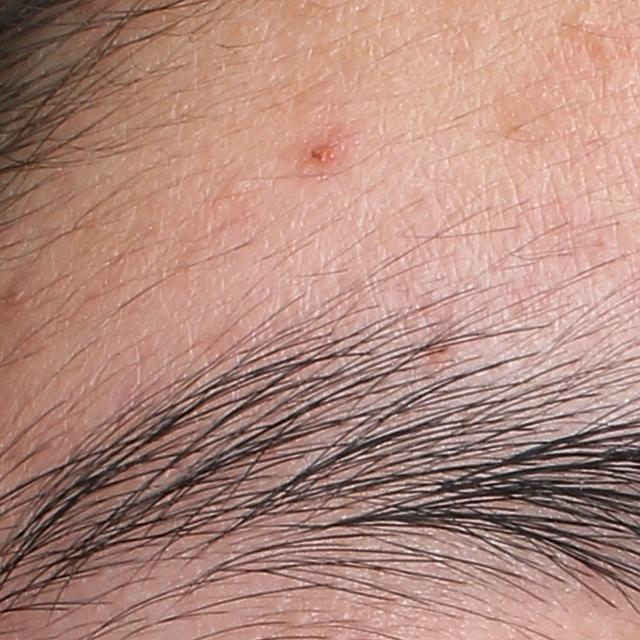papule: (305, 138, 342, 164)
